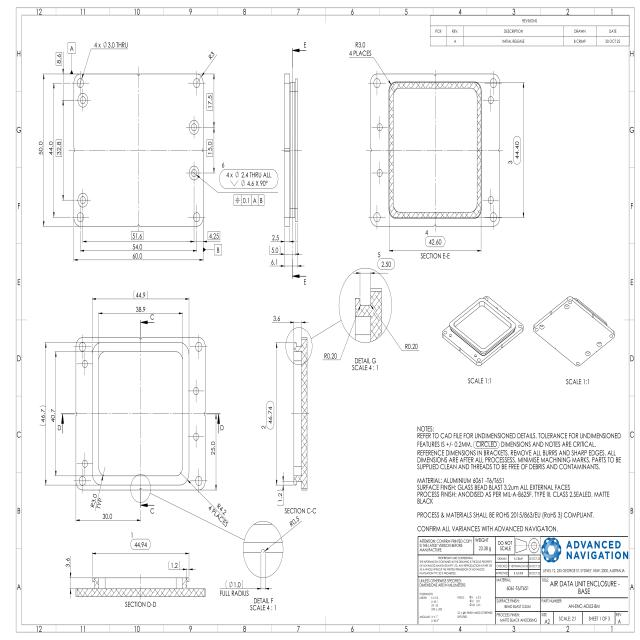dimension: (220, 168, 278, 189), (206, 500, 232, 528), (233, 193, 265, 207), (348, 41, 372, 58), (93, 40, 129, 50), (512, 135, 522, 165), (89, 491, 104, 511), (425, 235, 446, 248), (130, 538, 151, 551), (219, 589, 249, 598), (376, 258, 396, 270), (266, 400, 274, 430), (206, 49, 219, 66), (225, 578, 244, 589), (289, 513, 302, 528), (132, 289, 149, 300), (39, 404, 47, 427), (268, 245, 284, 256), (322, 351, 338, 361), (276, 489, 284, 507), (404, 342, 420, 351), (130, 231, 144, 241), (167, 560, 181, 570), (208, 230, 220, 241), (206, 93, 213, 111), (206, 139, 213, 157), (37, 140, 44, 156), (49, 408, 56, 424), (48, 139, 54, 157), (56, 139, 62, 157), (132, 242, 144, 251), (132, 252, 144, 261), (210, 440, 216, 456), (56, 51, 62, 66), (135, 305, 146, 313), (102, 512, 113, 520), (270, 258, 280, 266), (65, 556, 71, 569), (272, 314, 281, 322), (272, 234, 280, 242)
